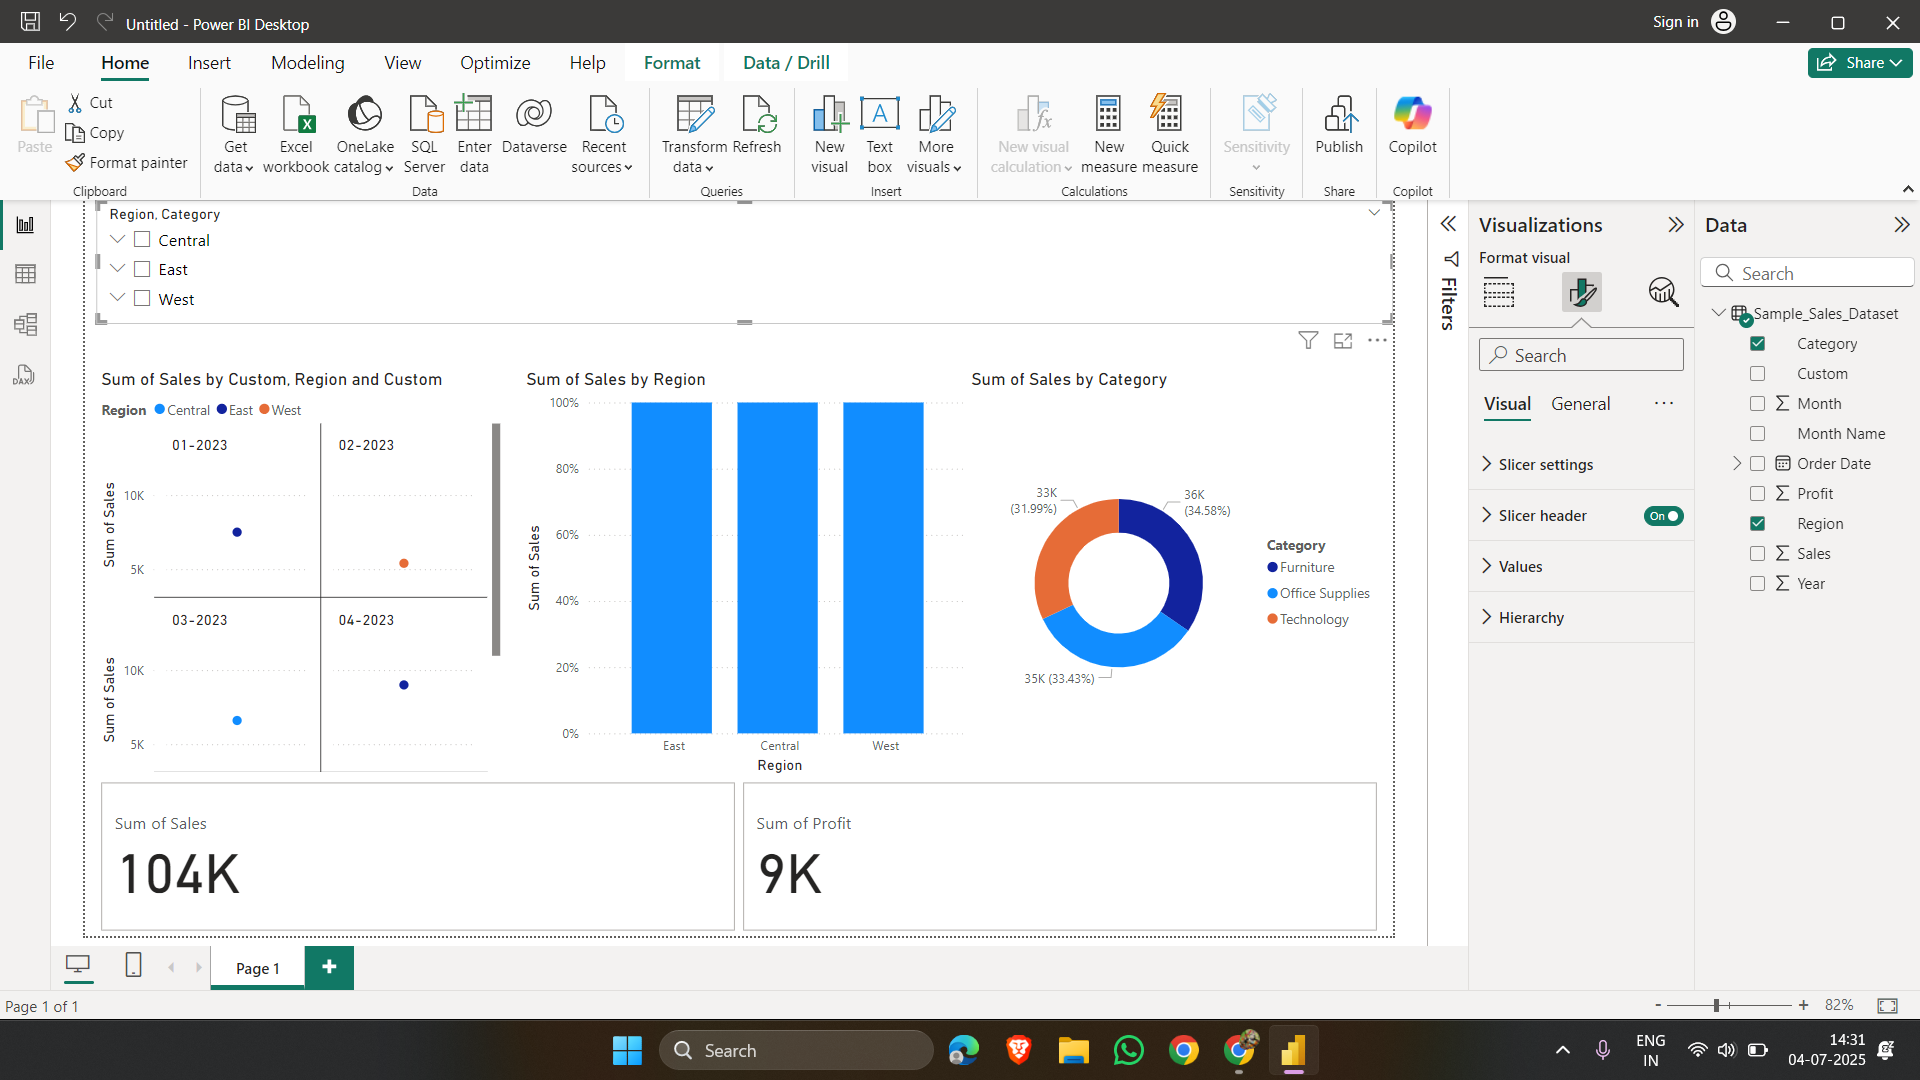

What the dashboard file says about the page in this screenshot:
{"tool":"powerbi","page":{"name":"Sales Dashboard Design","canvas":[1280,720],"ordinal":0},"visuals":[{"type":"lineChart","fields":{"Y":["Sum(Sample_Sales_Dataset.Sales)"],"Category":["Sample_Sales_Dataset.Custom"],"Series":["Sample_Sales_Dataset.Region"],"Rows":["Sample_Sales_Dataset.Custom"]},"box":[11,164.7,400.7,400.7],"z":0},{"type":"hundredPercentStackedColumnChart","fields":{"Category":["Sample_Sales_Dataset.Region"],"Y":["Sum(Sample_Sales_Dataset.Sales)"]},"box":[426.8,164.7,444.6,400.7],"z":3},{"type":"donutChart","fields":{"Y":["Sum(Sample_Sales_Dataset.Sales)"],"Category":["Sample_Sales_Dataset.Category"]},"box":[861.8,164.7,408.9,400.7],"z":4},{"type":"cardVisual","fields":{"Data":["Sum(Sample_Sales_Dataset.Sales)","Sum(Sample_Sales_Dataset.Profit)"]},"box":[11,565.4,1259.7,155.1],"z":5},{"type":"slicer","fields":{"Values":["Sample_Sales_Dataset.Region"]},"box":[11,0,1269.3,120.8],"z":6}]}

Visuals, with their boxes on the page's 1280x720 design canvas (x1, y1, x2, y2). These are canvas units, not pixel positions in the 1920x1080 screenshot, which may show the page scaled, cropped or inside an application window:
lineChart - Sum(Sample_Sales_Dataset.Sales) x Sample_Sales_Dataset.Custom: [11, 165, 412, 565]
hundredPercentStackedColumnChart - Sample_Sales_Dataset.Region x Sum(Sample_Sales_Dataset.Sales): [427, 165, 871, 565]
donutChart - Sum(Sample_Sales_Dataset.Sales) x Sample_Sales_Dataset.Category: [862, 165, 1271, 565]
cardVisual - Sum(Sample_Sales_Dataset.Sales) x Sum(Sample_Sales_Dataset.Profit): [11, 565, 1271, 720]
slicer - Sample_Sales_Dataset.Region: [11, 0, 1280, 121]
